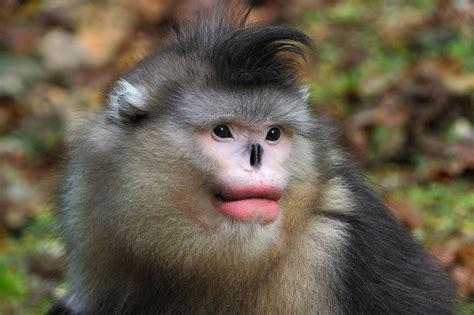monkey: (64, 38, 455, 315)
